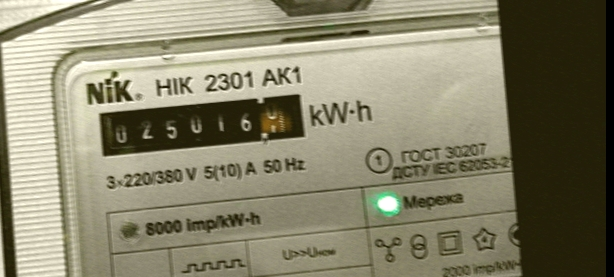0: (191, 113, 207, 137), (116, 124, 131, 147), (266, 102, 280, 123)
1: (216, 110, 229, 136), (271, 125, 279, 136)
2: (142, 119, 156, 143)
5: (167, 120, 179, 142)
6: (240, 111, 255, 137)
screen: (91, 86, 318, 166)
